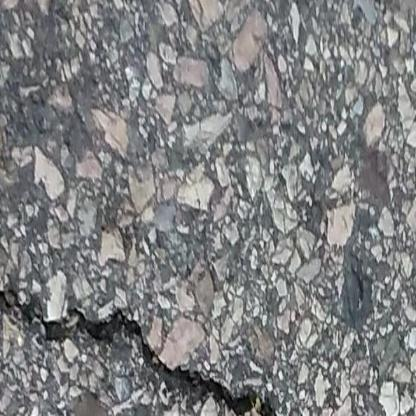Cracks: (0, 273, 297, 416)
